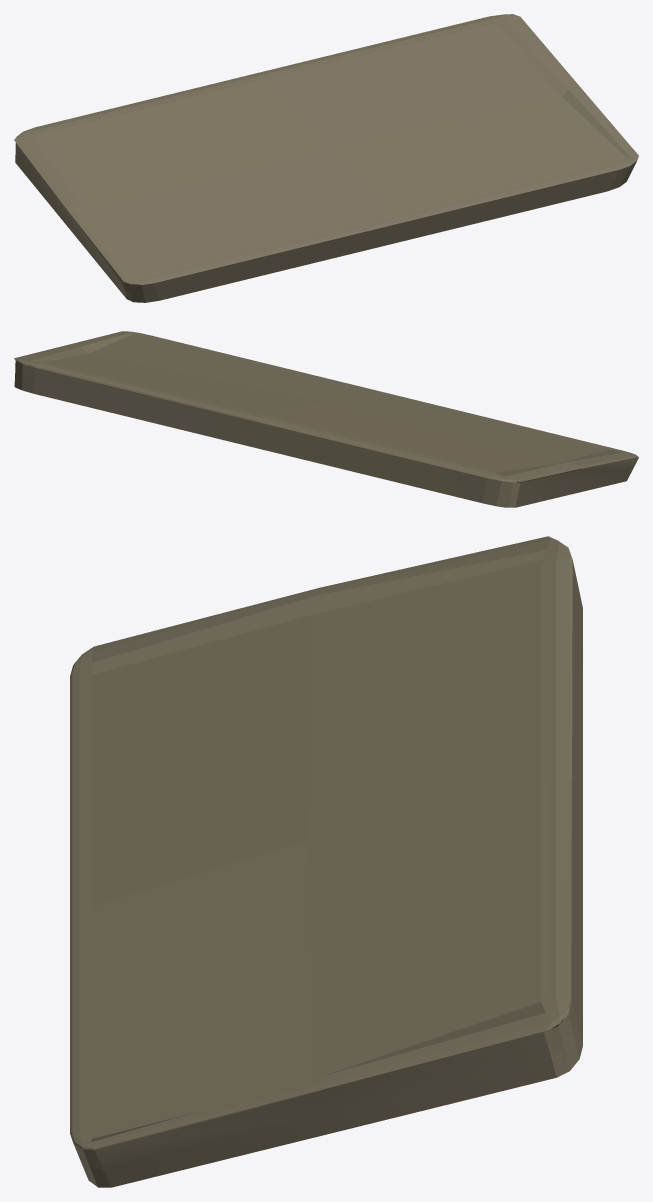
Rendered from bed.fbx.
3 renders of one model, top to bottom at view 1: azimuth 30°, elevation 25°; view 2: azimuth 150°, elevation 25°; view 3: azimuth 270°, elevation 25°, orthographic. The views are drawn at different scales.
Visible parts, largest first — view 1: Cube; view 2: Cube; view 3: Cube.
Boxes of the visible parts, bbox=[...] form: Cube: bbox=[14, 14, 638, 302]; Cube: bbox=[14, 331, 638, 507]; Cube: bbox=[70, 536, 582, 1187].
Size of the model in its own units: 42.79 by 6.82 by 18.42.
